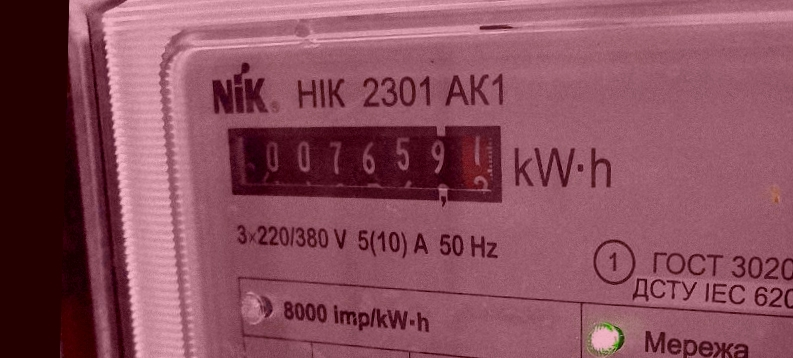0: (293, 135, 314, 176), (262, 136, 283, 175)
1: (466, 131, 486, 168)
5: (391, 133, 414, 173)
6: (357, 136, 380, 177)
7: (324, 136, 347, 175)
9: (427, 136, 449, 176)
screen: (216, 112, 510, 212)
